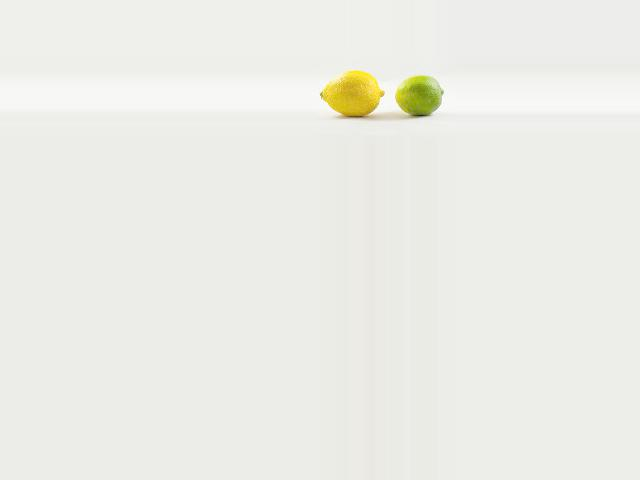lemon: (321, 67, 381, 118)
